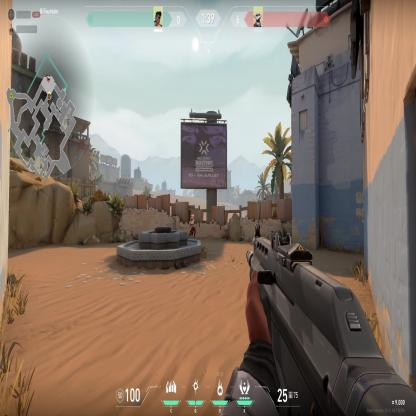enemy: (188, 214, 196, 240)
